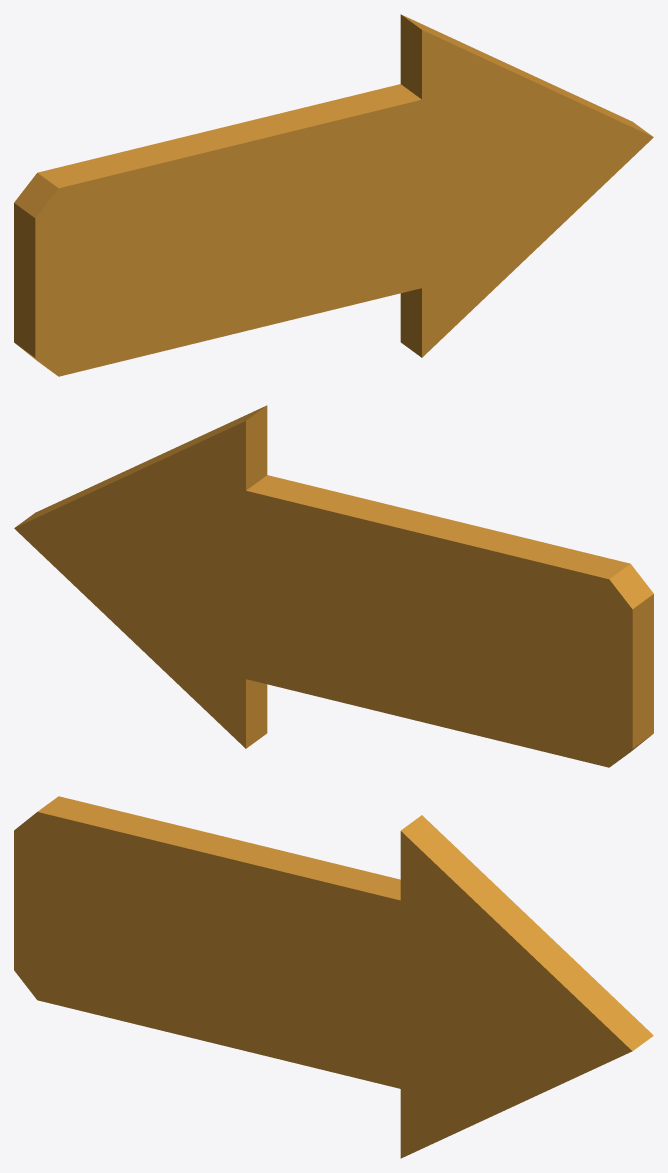
File: placa.glb
3 renders of one model, top to bottom at view 1: azimuth 30°, elevation 25°; view 2: azimuth 150°, elevation 25°; view 3: azimuth 330°, elevation 25°, orthographic.
Parts seen in each view (by area): view 1: Placa de direção; view 2: Placa de direção; view 3: Placa de direção.
Boxes of the visible parts, box(x1,y1,x2,y2) form: Placa de direção: box(14, 14, 653, 376); Placa de direção: box(14, 405, 653, 767); Placa de direção: box(14, 796, 653, 1158).
Bounding box in the file's own units: 0.584 × 0.296 × 0.035.
